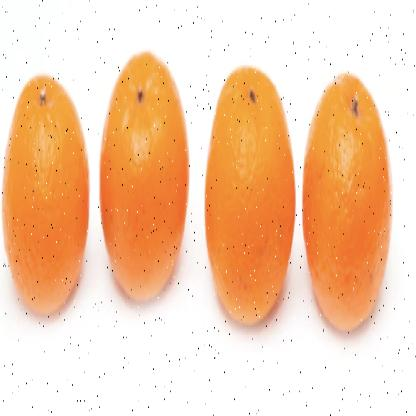fresh: (6, 52, 391, 340)
